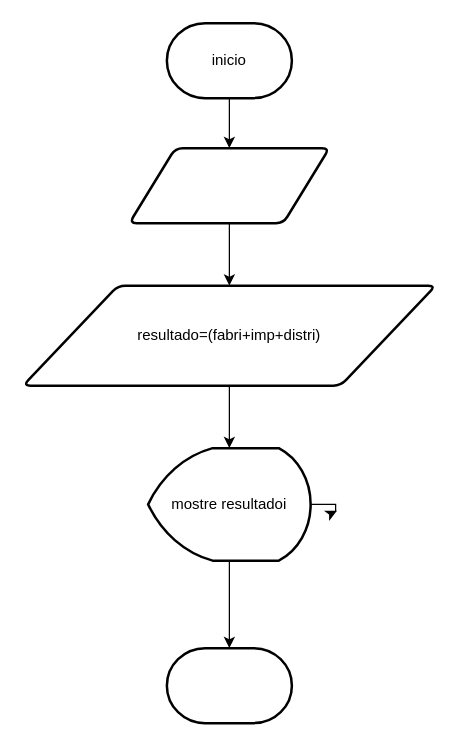
The diagram is 458 pixels wide and 745 high, and some of its shapes have lost their labels. Here are the shapes that lost their labels. From the top down, the box of each, then its label:
(128, 146, 330, 224): fabri, imp, distri, resultado
(165, 646, 292, 724): fim algoritmo
